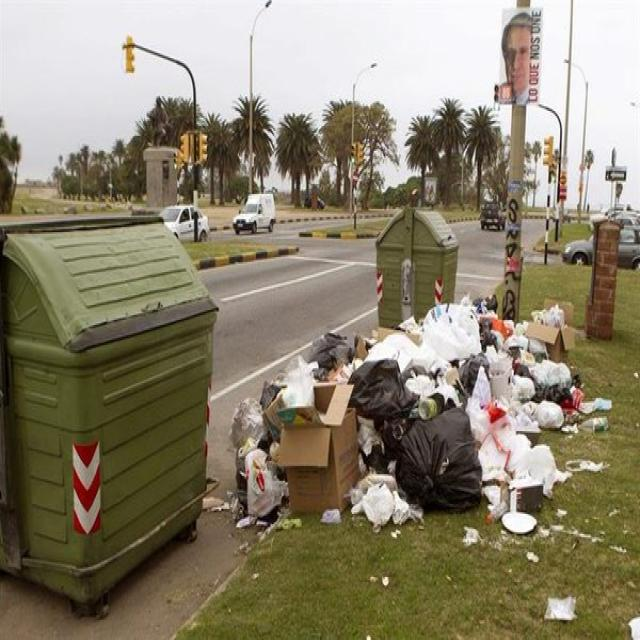garbage: (228, 295, 610, 554)
